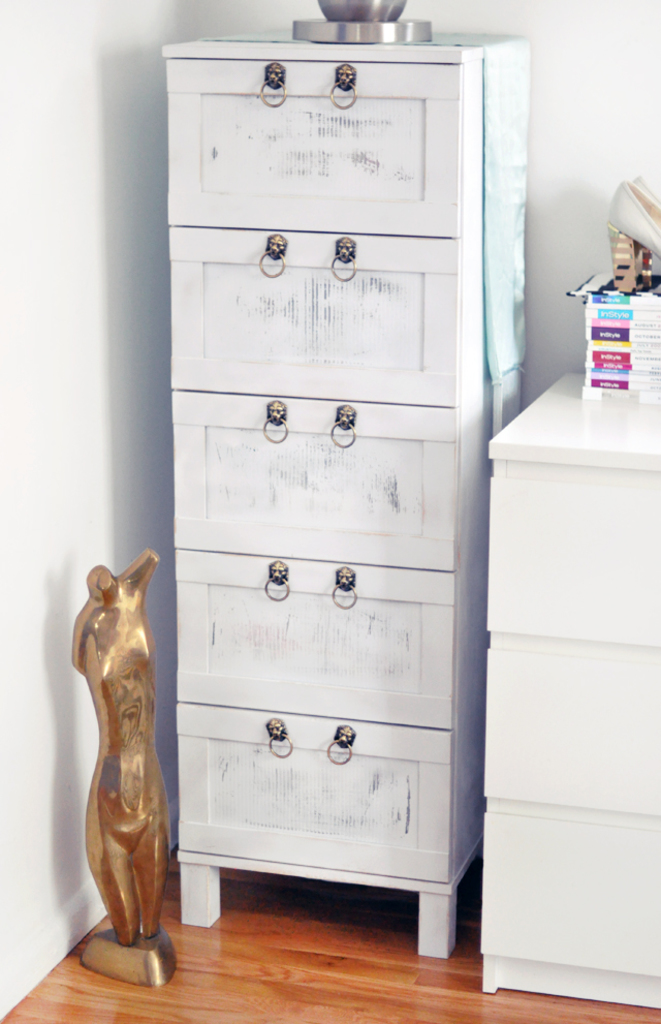cabinet door: (167, 70, 457, 242), (174, 394, 453, 560), (172, 235, 455, 390), (184, 707, 452, 866), (178, 562, 449, 714)
handle: (486, 622, 661, 686), (490, 781, 658, 836), (498, 457, 653, 505), (321, 55, 363, 118), (325, 225, 357, 289), (256, 51, 290, 111), (324, 715, 359, 771), (261, 555, 294, 614), (326, 562, 363, 613), (260, 391, 292, 448), (256, 230, 287, 287), (263, 714, 295, 769), (328, 401, 360, 454)
